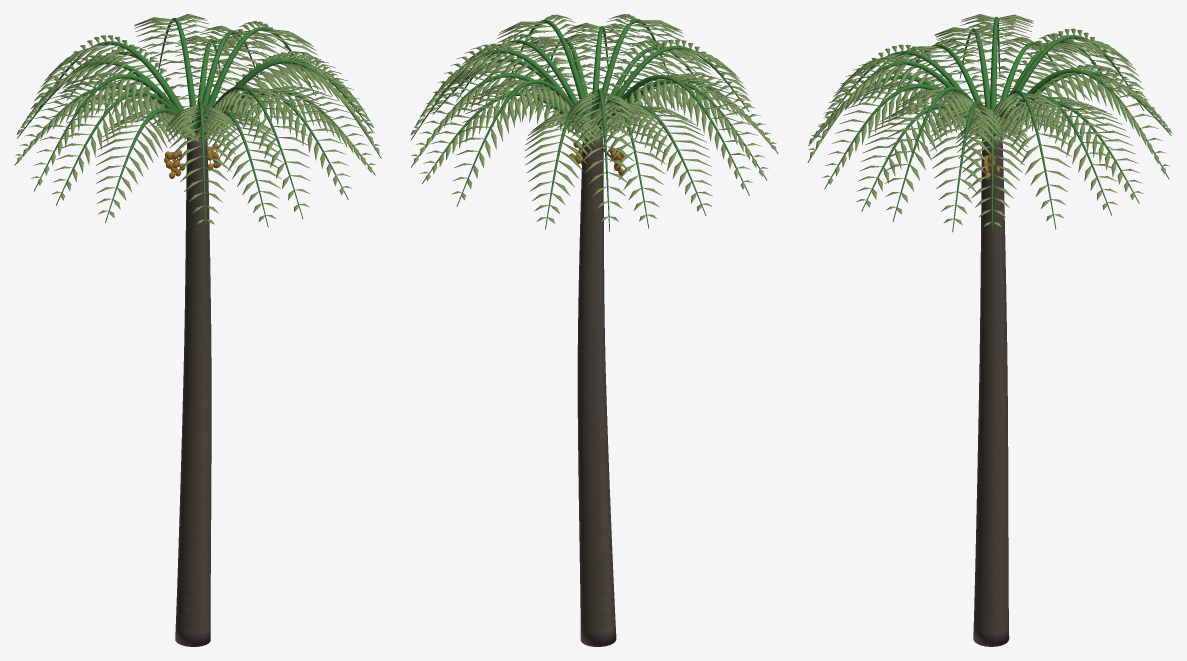
The model's file is date-palm.glb.
3 renders of one model, left to right at view 1: azimuth 30°, elevation 25°; view 2: azimuth 150°, elevation 25°; view 3: azimuth 270°, elevation 25°, orthographic.
Parts seen in each view (by area): view 1: Date palm - Date palm foliage, Date palm - bark, Date palm - leaf, Date palm - Ripe dates; view 2: Date palm - Date palm foliage, Date palm - bark, Date palm - leaf; view 3: Date palm - Date palm foliage, Date palm - bark, Date palm - leaf.
Boxes of the visible parts, x1,y1,x2,y2 form: Date palm - Date palm foliage: (15, 14, 379, 224); Date palm - bark: (170, 137, 213, 646); Date palm - leaf: (14, 18, 381, 232); Date palm - Ripe dates: (164, 143, 220, 178); Date palm - Date palm foliage: (410, 14, 776, 223); Date palm - bark: (575, 137, 616, 646); Date palm - leaf: (410, 19, 778, 231); Date palm - Date palm foliage: (809, 14, 1172, 227); Date palm - bark: (973, 137, 1009, 646); Date palm - leaf: (807, 16, 1171, 234).
Bounding box in the file's own units: 6.91 × 12 × 6.8.
4 materials, 4 textured.
